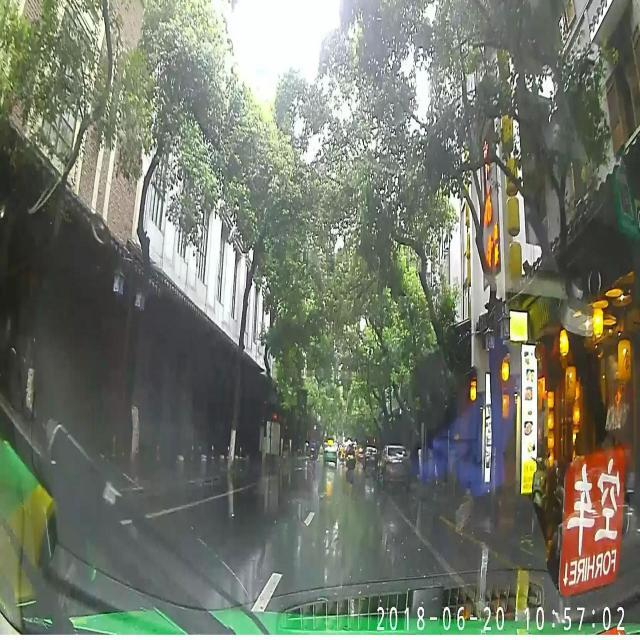car: (376, 444, 412, 492), (322, 438, 336, 468), (362, 447, 378, 468)
